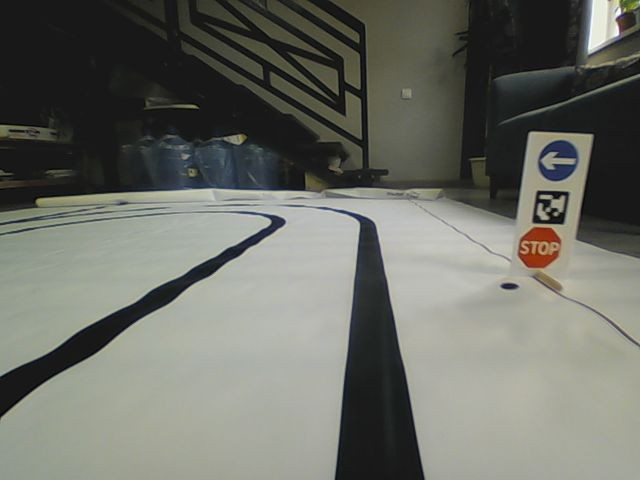Stop: (516, 225, 562, 269)
